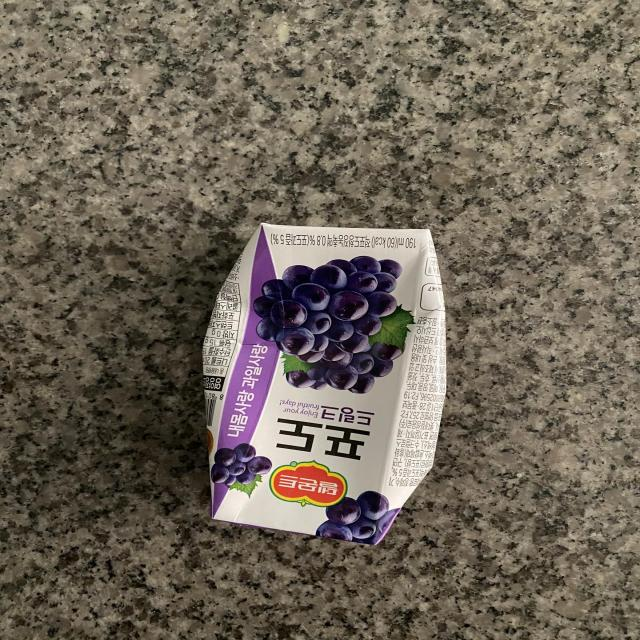paperpack: (202, 224, 446, 546)
